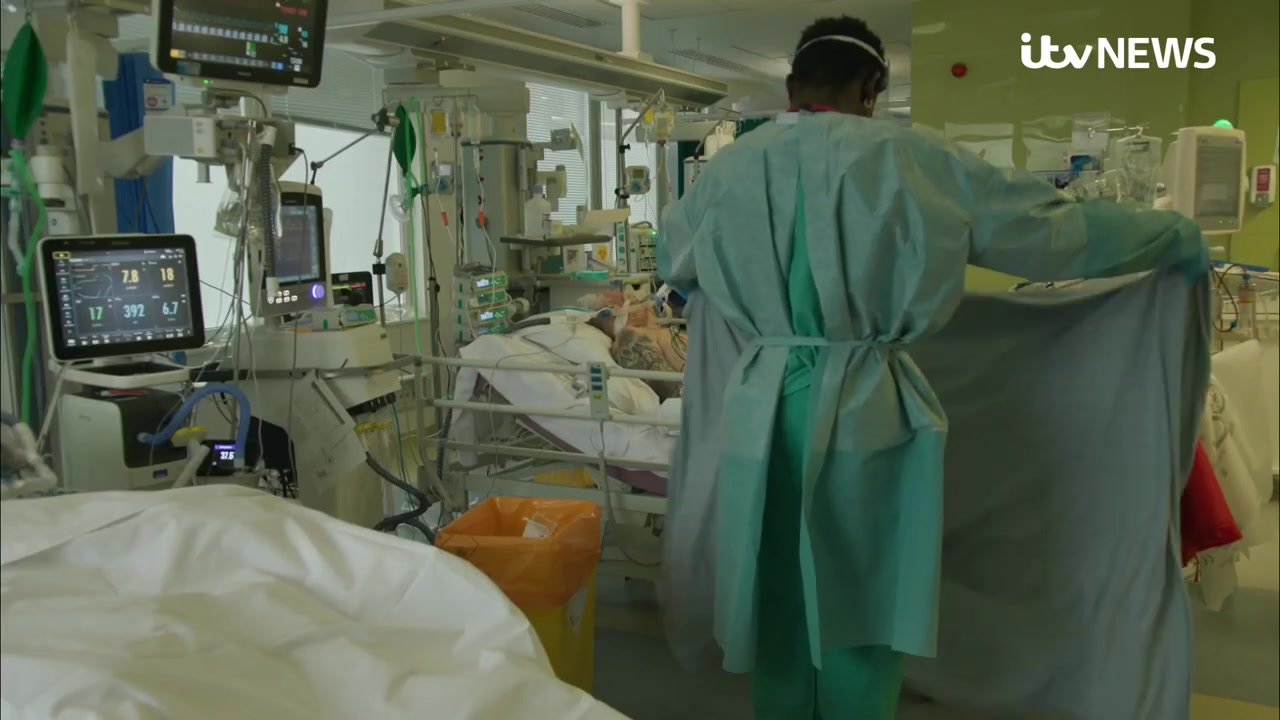bedrail: (414, 355, 677, 486)
bedside_monitor: (37, 234, 204, 361), (157, 1, 333, 88), (249, 181, 328, 312), (1172, 128, 1248, 235)
breathing_tube: (364, 317, 552, 546), (143, 384, 254, 483), (614, 283, 674, 321)
dispenser: (1251, 165, 1274, 207)
hospital_bed: (421, 312, 684, 484)
infusion_pump: (625, 164, 651, 197)
iv_pole: (432, 94, 481, 354), (607, 89, 667, 279)
patient: (585, 298, 689, 404)
staff: (660, 13, 1199, 720)
syringe_pump: (452, 268, 510, 336), (628, 225, 660, 275)
ventilator: (255, 326, 401, 534), (56, 391, 194, 491)
waste_bin: (438, 494, 602, 693)
